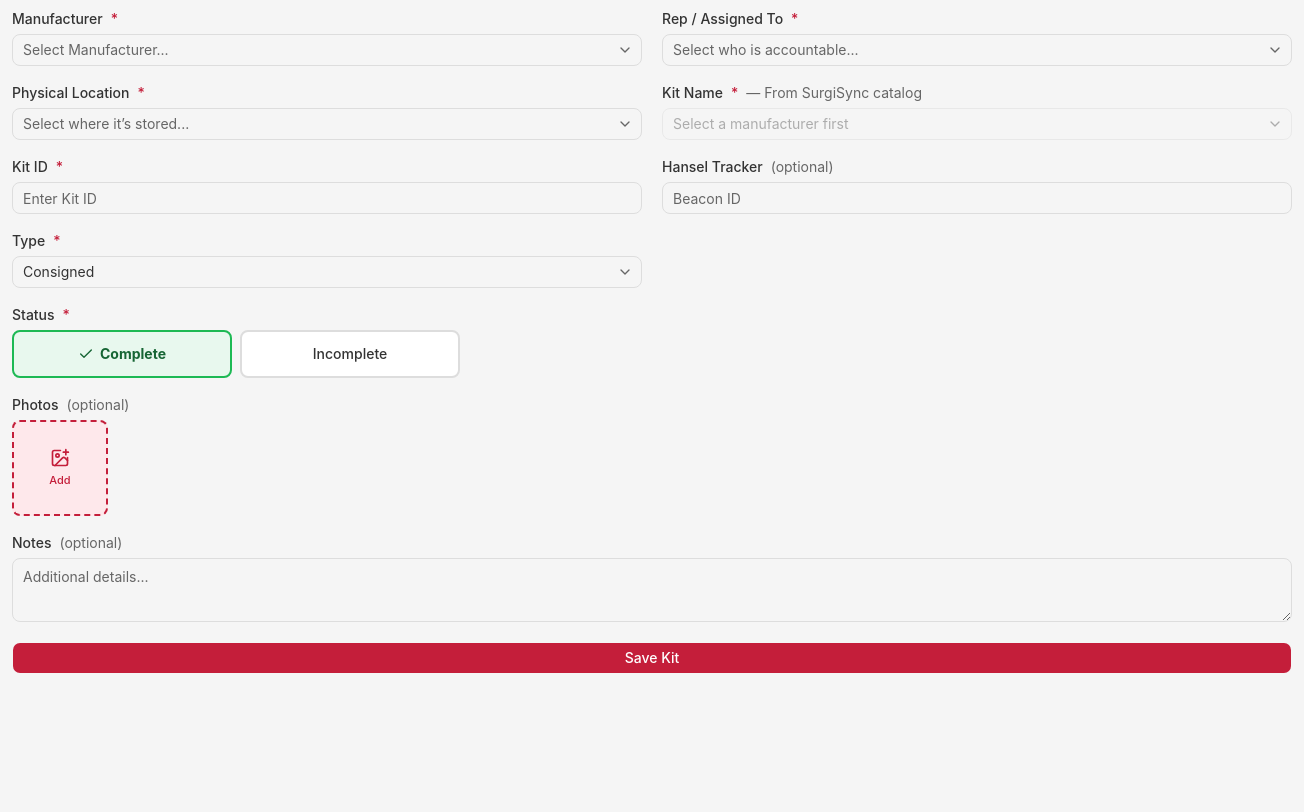
ReceiveKitForm › offers only representatives in the Rep picker
Click the dropdown named "Rep / Assigned To": x=766, y=50 [662,34,1292,66]
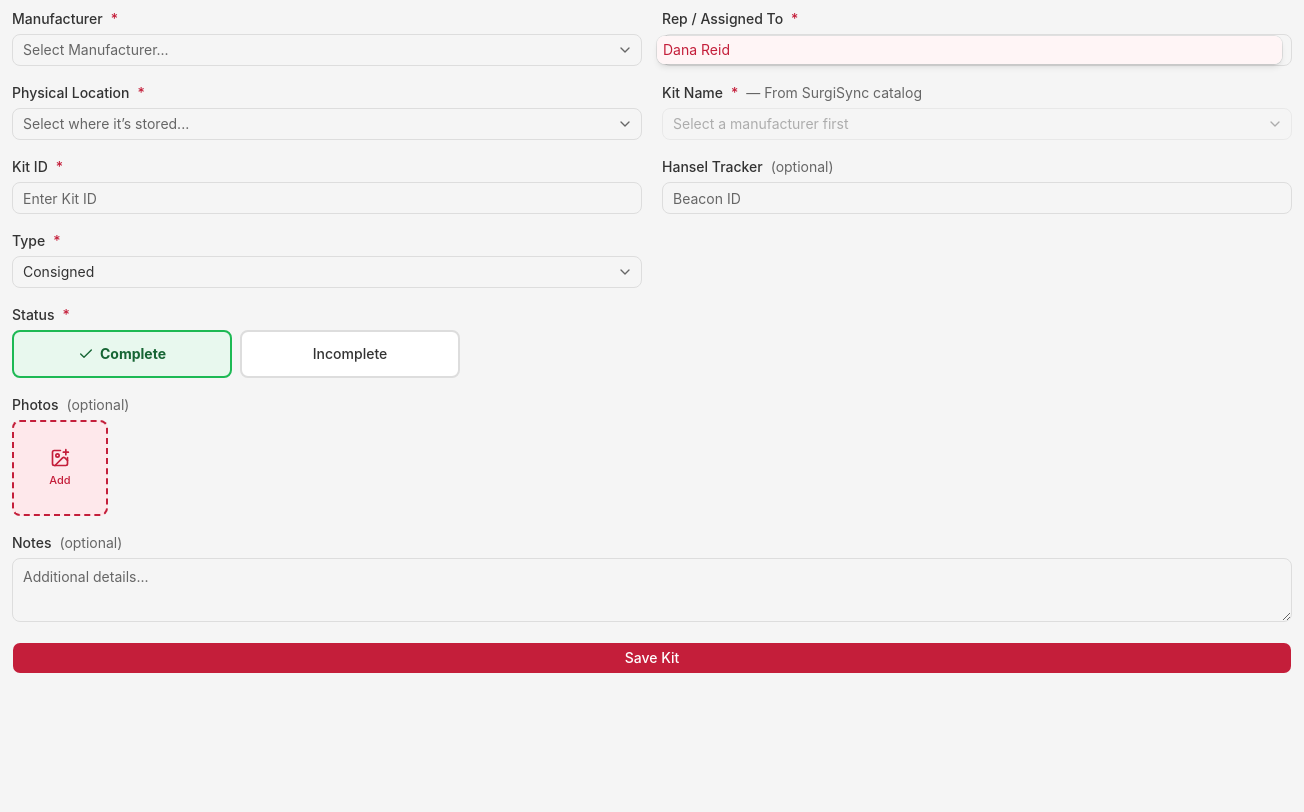
expect the option "Dana Reid" is shown: met, box [657,36,1282,64]
